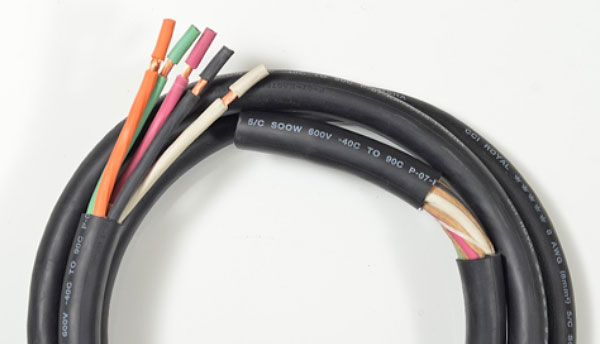Nonrec_Tangler: (9, 7, 590, 333)
